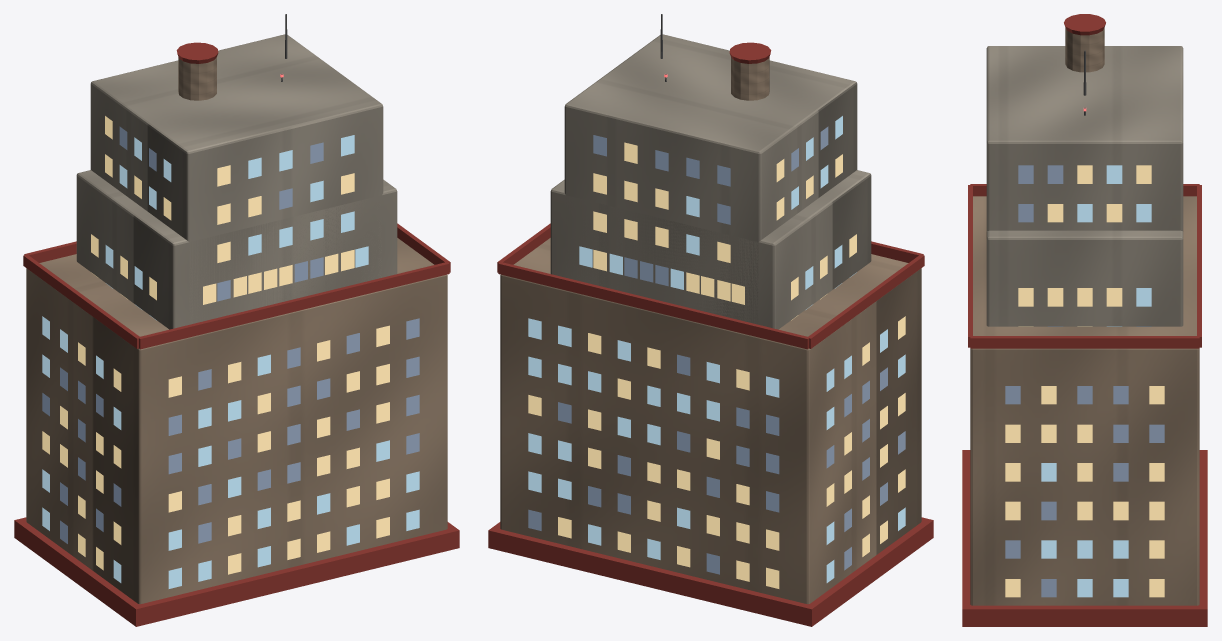
The model's file is towers.glb.
3 renders of one model, left to right at view 1: azimuth 30°, elevation 25°; view 2: azimuth 150°, elevation 25°; view 3: azimuth 270°, elevation 25°, orthographic.
Parts seen in each view (by area): view 1: TowerBSlab, TowerCSlab, TowerASlab, TowerBWinWarm, TowerBWinDark, TowerBWinCool, TowerCWinCool, TowerCWinWarm, TowerAWinWarm, TowerCWinDark, TowerAWinCool; view 2: TowerBSlab, TowerCSlab, TowerASlab, TowerBWinWarm, TowerBWinCool, TowerBWinDark, TowerCWinWarm, TowerCWinDark, TowerCWinCool, TowerAWinCool, TowerAWinWarm; view 3: TowerBSlab, TowerCSlab, TowerASlab, TowerBWinWarm, TowerBWinDark, TowerBWinCool, TowerAWinWarm, TowerCWinWarm, TowerCWinCool, TowerCWinDark.
Boxes of the visible parts, box(x1,y1,x2,y2) form: TowerBSlab: box(14, 223, 459, 626); TowerCSlab: box(90, 14, 383, 324); TowerASlab: box(76, 74, 397, 329); TowerBWinWarm: box(42, 325, 389, 574); TowerBWinDark: box(42, 318, 419, 543); TowerBWinCool: box(42, 316, 419, 588); TowerCWinCool: box(119, 135, 354, 255); TowerCWinWarm: box(105, 116, 354, 293); TowerAWinWarm: box(91, 234, 338, 304); TowerCWinDark: box(119, 126, 323, 301); TowerAWinCool: box(105, 245, 368, 320); TowerBSlab: box(488, 223, 933, 626); TowerCSlab: box(564, 14, 857, 323); TowerASlab: box(550, 74, 871, 329); TowerBWinWarm: box(528, 316, 905, 588); TowerBWinCool: box(528, 318, 905, 582); TowerBWinDark: box(528, 354, 905, 574); TowerCWinWarm: box(593, 142, 842, 301); TowerCWinDark: box(593, 126, 828, 286); TowerCWinCool: box(686, 116, 842, 255); TowerAWinCool: box(579, 245, 856, 309); TowerAWinWarm: box(701, 234, 856, 320); TowerBSlab: box(962, 184, 1207, 626); TowerCSlab: box(986, 14, 1183, 231); TowerASlab: box(986, 107, 1183, 326); TowerBWinWarm: box(1005, 386, 1164, 597); TowerBWinDark: box(1005, 386, 1164, 597); TowerBWinCool: box(1041, 463, 1128, 597); TowerAWinWarm: box(1018, 288, 1122, 326); TowerCWinWarm: box(1047, 165, 1151, 222); TowerCWinCool: box(1077, 165, 1151, 222); TowerCWinDark: box(1018, 165, 1063, 222).
Bounding box in the file's own units: 23 × 35.1 × 15.
9 materials, 3 textured.
